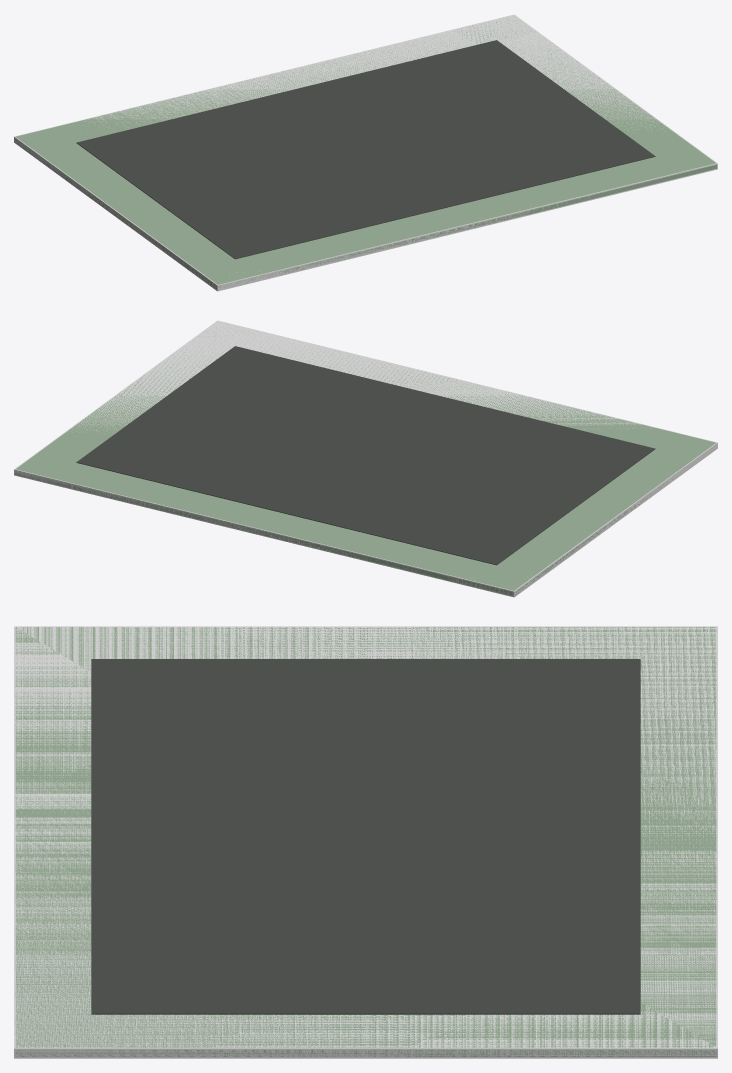
File: area-rug_basic.glb
3 views of the same model, one above another, from view 1: azimuth 30°, elevation 25°; view 2: azimuth 150°, elevation 25°; view 3: azimuth 270°, elevation 25° (orthographic). The views are drawn at different scales.
Parts seen in each view (by area): view 1: MESH_RugInset, MESH_Rug, COL_area-rug; view 2: MESH_RugInset, MESH_Rug, COL_area-rug; view 3: MESH_RugInset, COL_area-rug, MESH_Rug.
Part boxes in pixels (x1,y1,x2,y2): MESH_RugInset: (76, 40, 655, 259); MESH_Rug: (16, 17, 716, 289); COL_area-rug: (14, 14, 717, 291); MESH_RugInset: (76, 346, 655, 565); MESH_Rug: (15, 323, 715, 595); COL_area-rug: (14, 320, 717, 597); MESH_RugInset: (91, 659, 640, 1014); COL_area-rug: (14, 626, 717, 1058); MESH_Rug: (15, 627, 716, 1056).
Bounding box in the file's own units: 2.2 × 0.0275 × 1.55.
